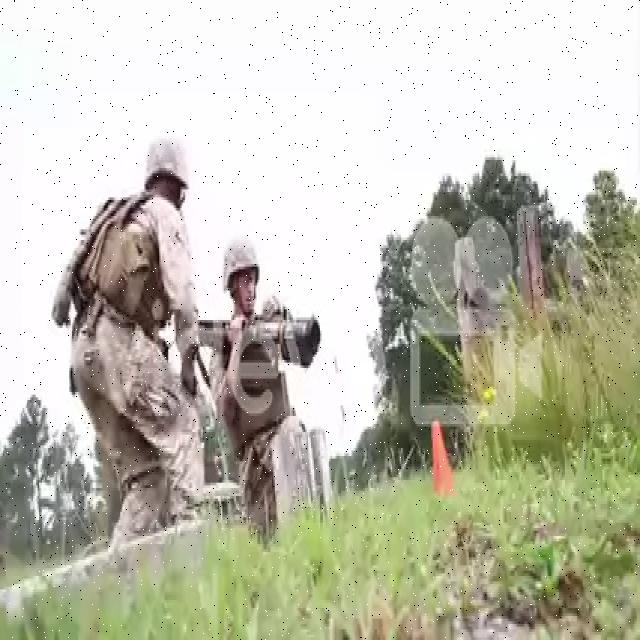bazooka: (196, 290, 325, 377)
